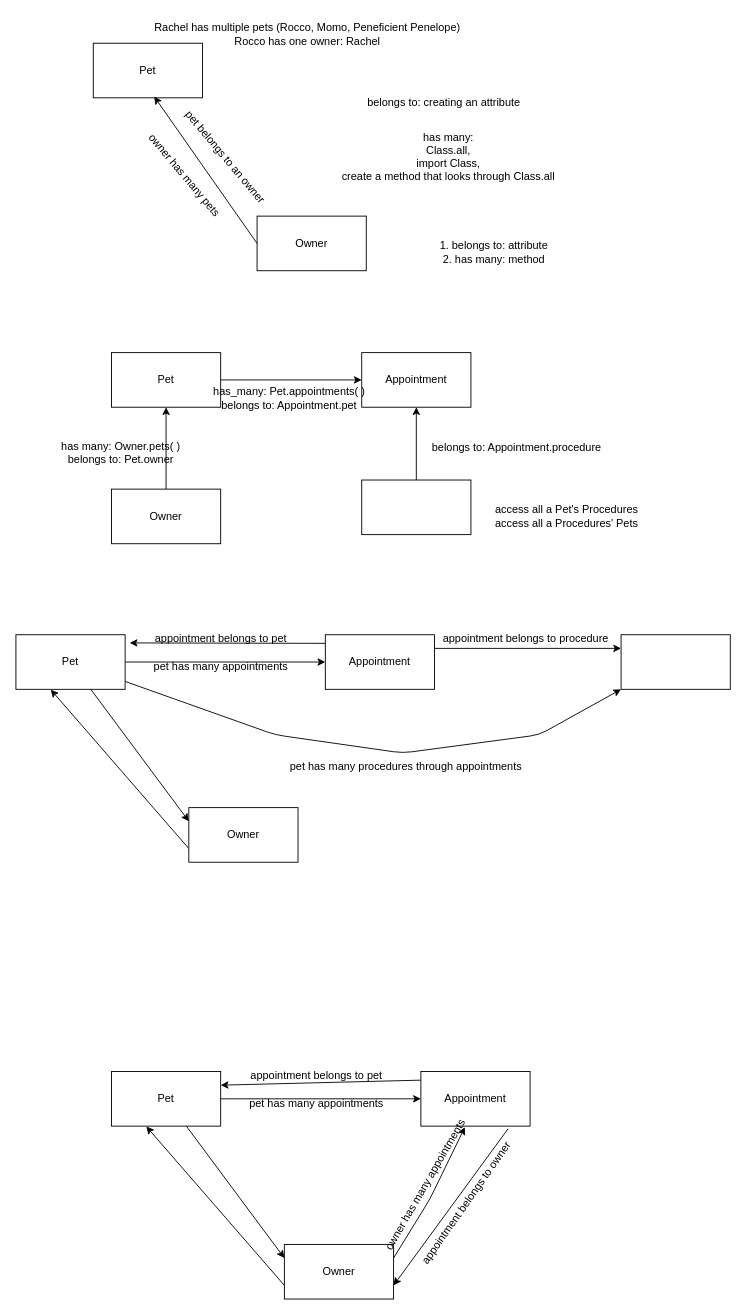
This 746x1315 diagram has some shape labels left out. Here are the shapes that lost their labels. From the top down, the centre of each, then its label:
the point at 416,507: Procedures
the point at 675,661: Procedure
